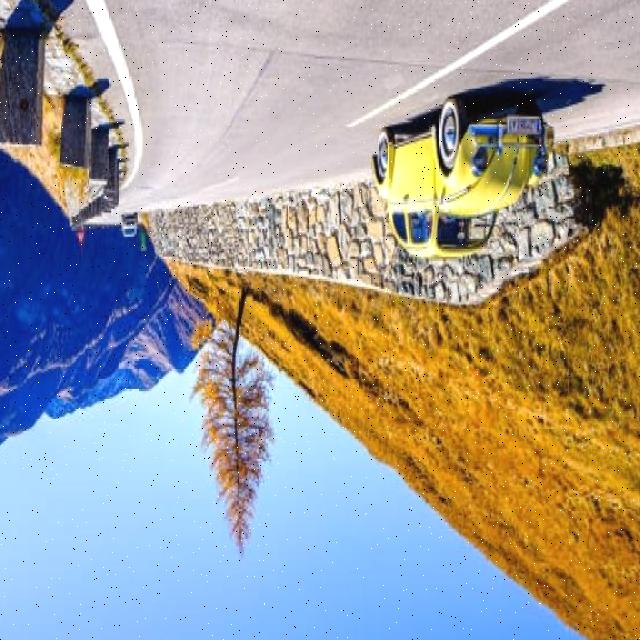car: (371, 108, 548, 264)
